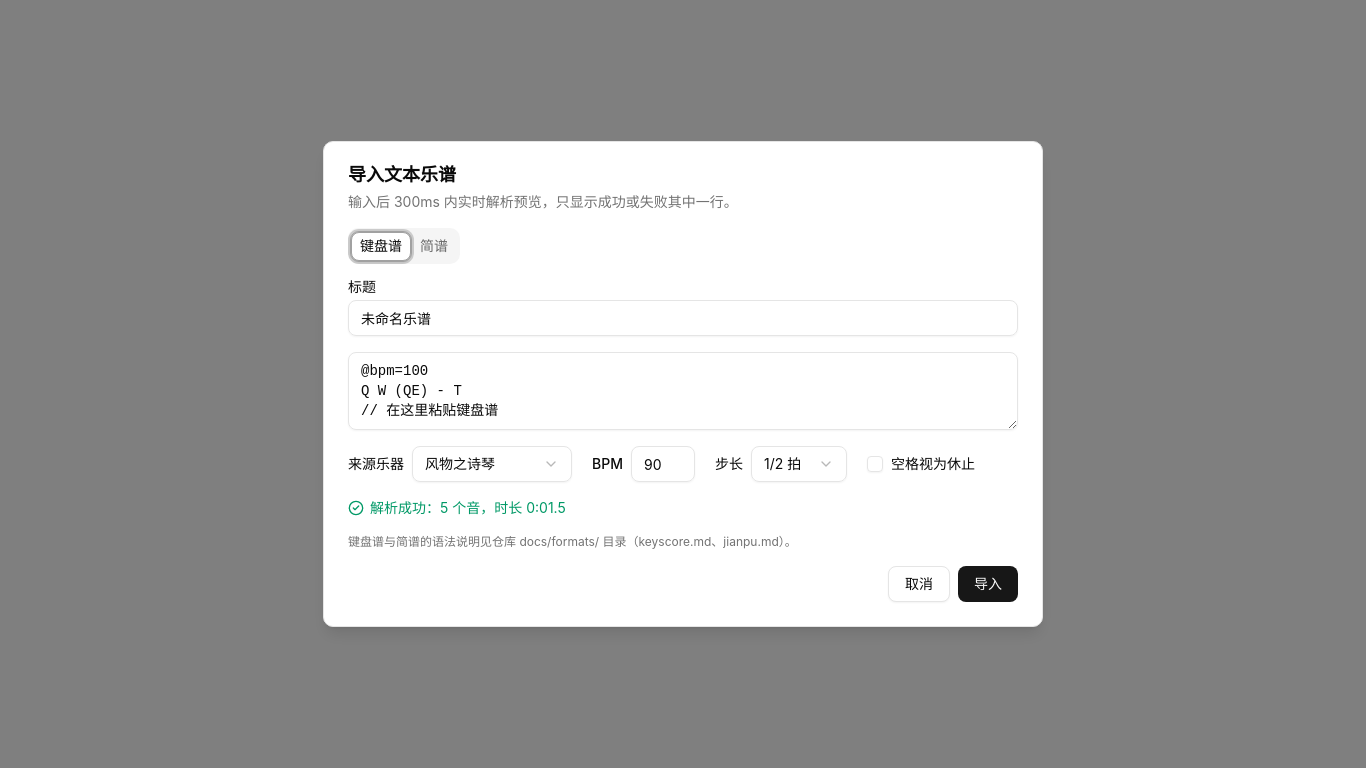
Test: TextScoreDialog › 清空文本时隐藏解析反馈并禁用导入
Expected: the text "解析成功：5 个音，时长 0:01.5" is shown, [348,499,566,516]
Clear the text box named "乐谱文本". click: (683, 391)
box: [348,352,1018,430]
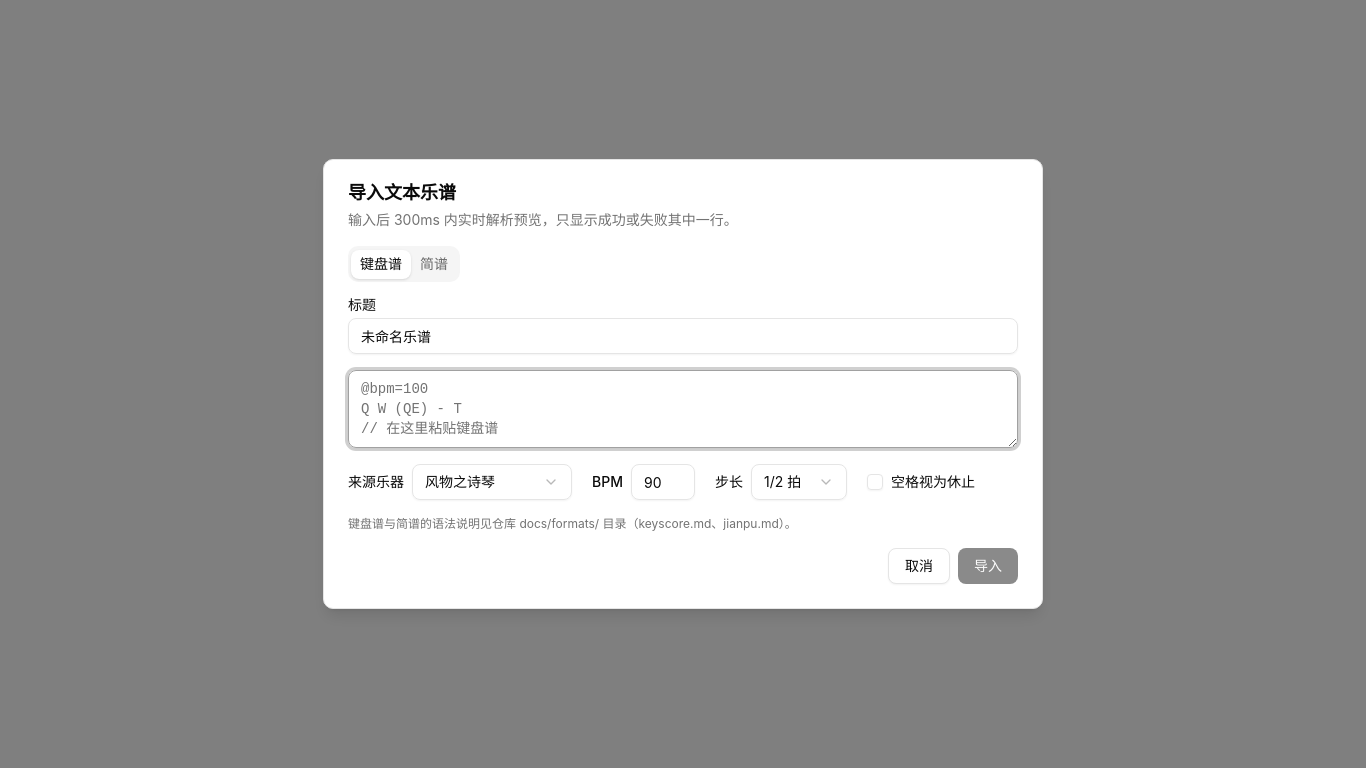
Now the text "解析成功" is gone
Now the button "导入" is disabled, box [958,548,1018,584]
